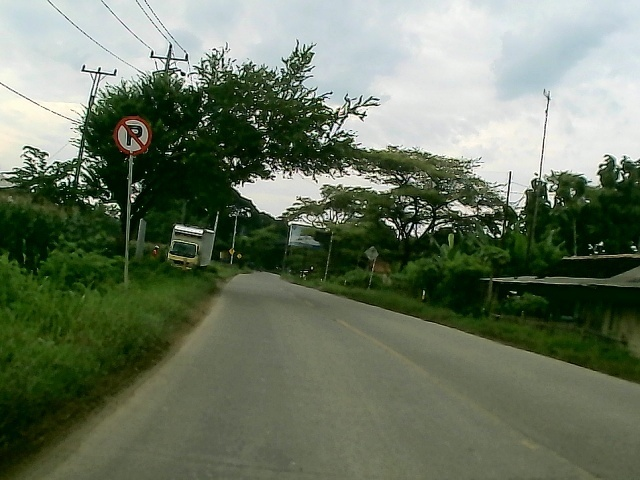Dilarang parkir: (111, 113, 154, 158)
